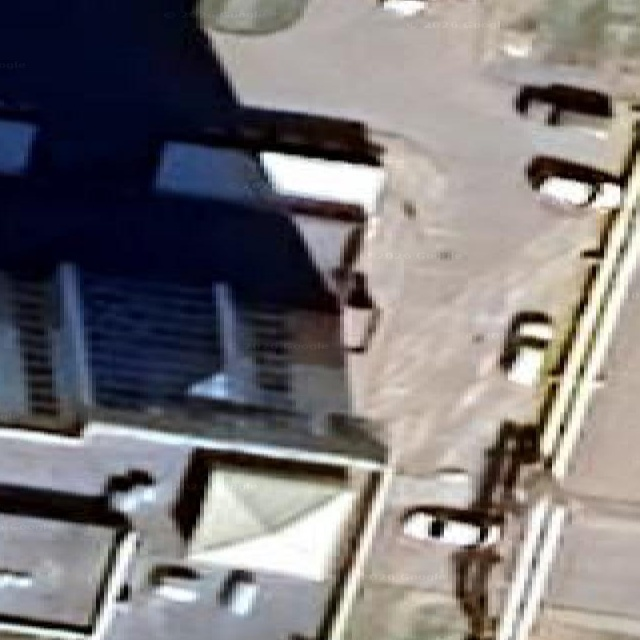car: (528, 156, 622, 212), (400, 507, 499, 547), (500, 312, 552, 384)
